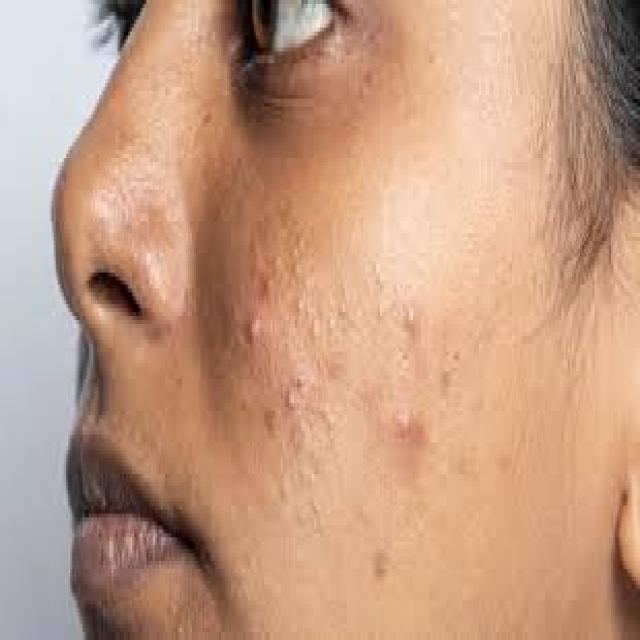Acne: (226, 239, 306, 475), (378, 251, 434, 530)
